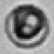correct: (3, 3, 51, 49)
